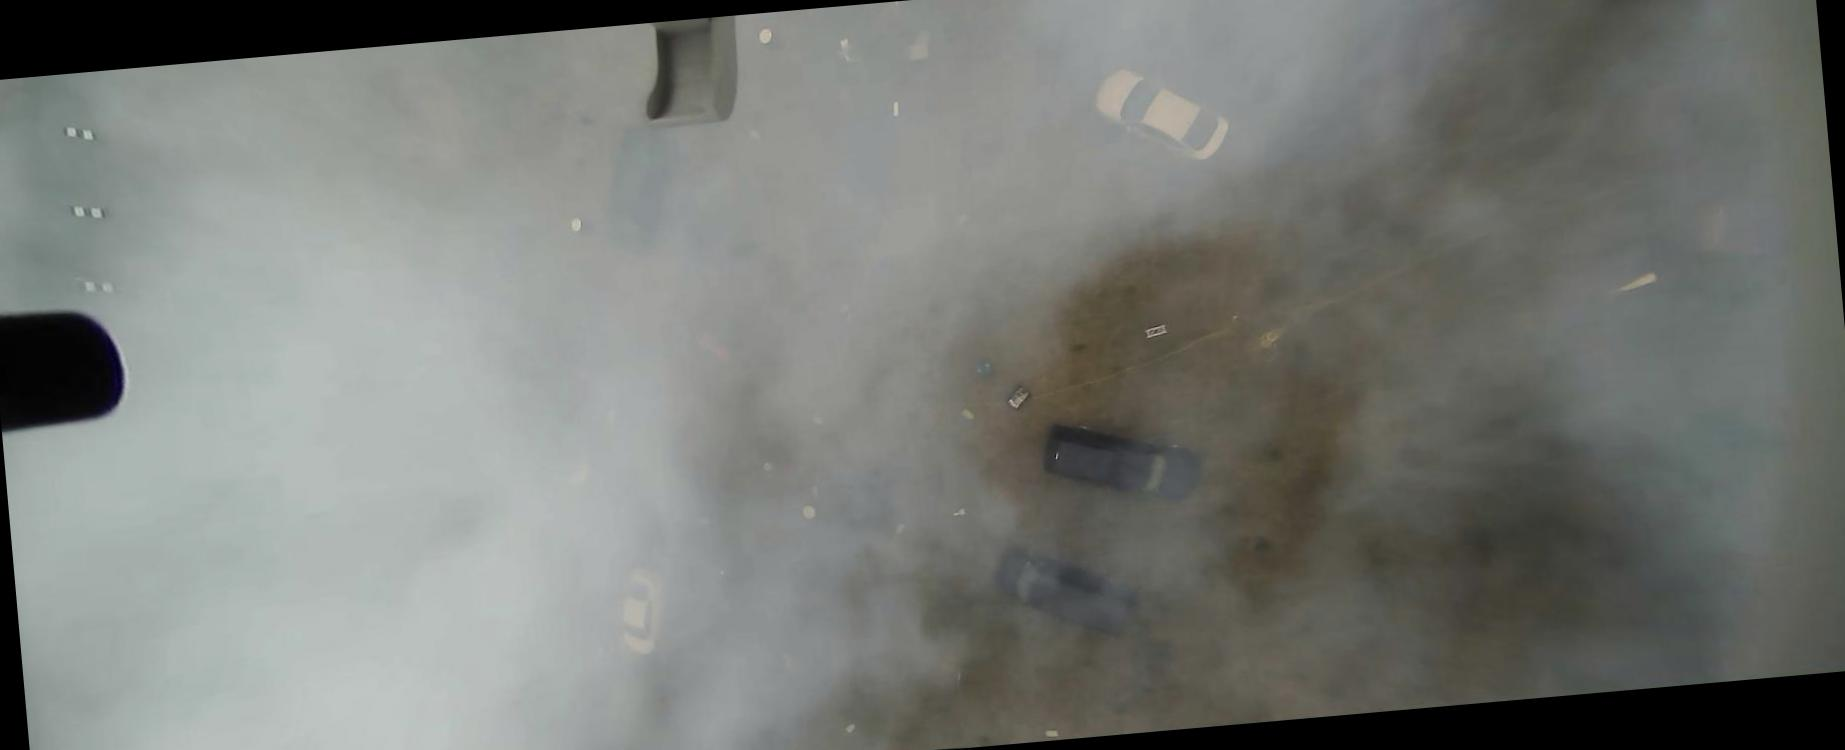vehicle: (1040, 412, 1201, 514), (991, 539, 1142, 647), (1092, 58, 1235, 172), (598, 121, 688, 260), (617, 566, 676, 658), (544, 430, 592, 489)
